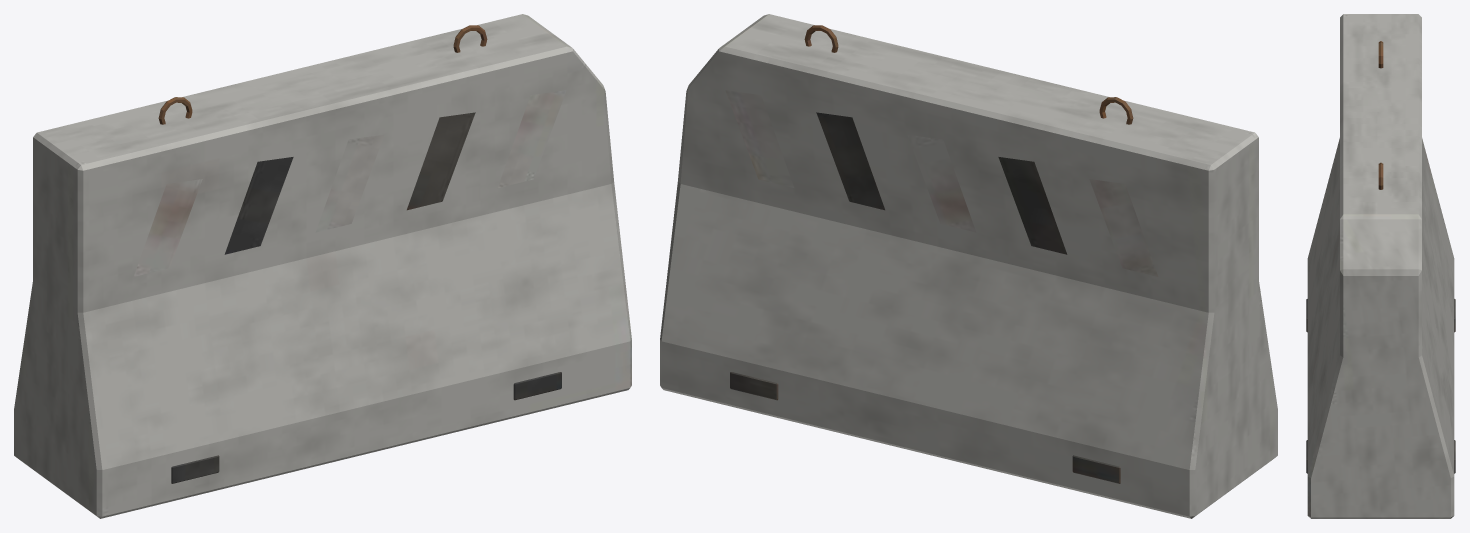
File: CS04_concrete_barriers_v2.glb
The picture shows the model from 3 angles, left to right: view 1: azimuth 30°, elevation 25°; view 2: azimuth 150°, elevation 25°; view 3: azimuth 270°, elevation 25°; orthographic projection. The views are drawn at different scales.
Parts seen in each view (by area): view 1: Cast Jersey barrier; view 2: Cast Jersey barrier; view 3: Cast Jersey barrier.
Part boxes in pixels (box(x1,y1,x2,y2)): Cast Jersey barrier: box(14, 14, 631, 518); Cast Jersey barrier: box(660, 14, 1277, 518); Cast Jersey barrier: box(1306, 14, 1455, 518).
Size of the model in its own units: 2 by 1.29 by 0.5695.
Materials: 4 (4 with a texture image).
